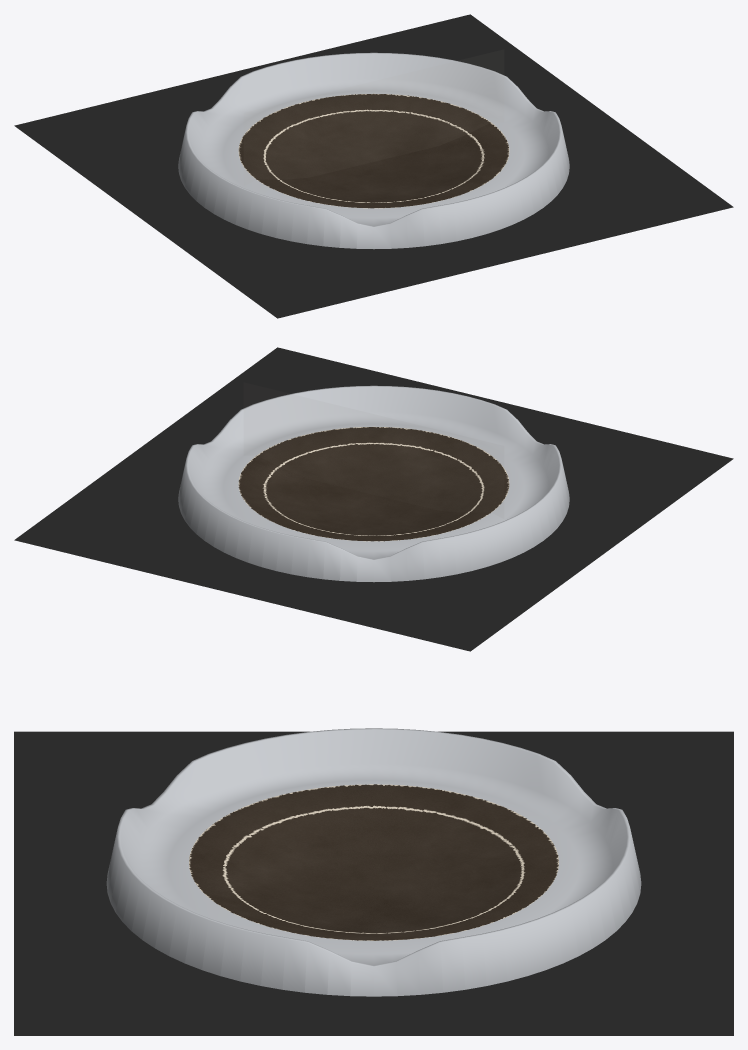
The model's file is chalk_ring.glb.
3 views of the same model, one above another, from view 1: azimuth 30°, elevation 25°; view 2: azimuth 150°, elevation 25°; view 3: azimuth 270°, elevation 25° (orthographic). The views are drawn at different scales.
Visible parts, largest first — view 1: stadium_chalk_ring, shadow_catcher_chalk_ring; view 2: stadium_chalk_ring, shadow_catcher_chalk_ring; view 3: stadium_chalk_ring, shadow_catcher_chalk_ring.
Part boxes in pixels (box(x1,y1,x2,y2)): stadium_chalk_ring: box(178, 52, 569, 249); shadow_catcher_chalk_ring: box(14, 14, 733, 318); stadium_chalk_ring: box(178, 385, 569, 582); shadow_catcher_chalk_ring: box(14, 347, 733, 651); stadium_chalk_ring: box(106, 728, 641, 996); shadow_catcher_chalk_ring: box(14, 731, 733, 1035).
Size of the model in its own units: 420 by 75.05 by 420.
4 materials, 1 textured.
